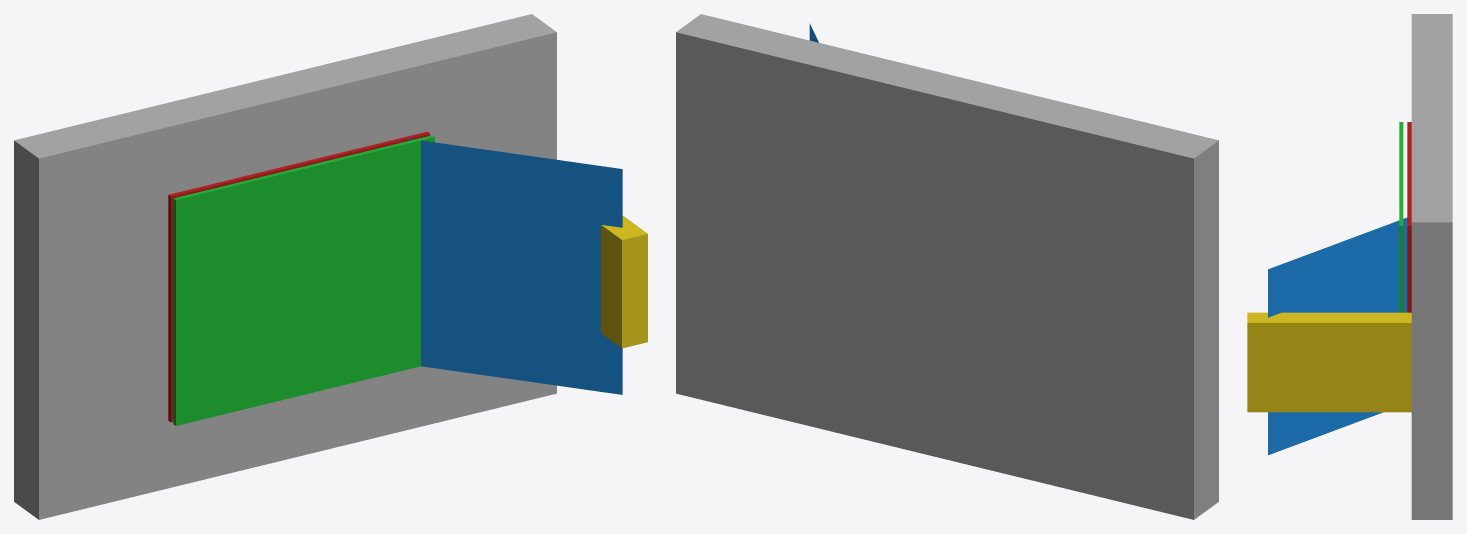
Rendered from flip_sequence.obj.
3 renders of one model, left to right at view 1: azimuth 30°, elevation 25°; view 2: azimuth 150°, elevation 25°; view 3: azimuth 270°, elevation 25°, orthographic. The views are drawn at different scales.
Parts seen in each view (by area): view 1: platform, plate_step3, plate_step2, stop_block, plate_step1; view 2: platform; view 3: platform, stop_block, plate_step2, plate_step1, plate_step3.
Boxes of the visible parts, box(x1,y1,x2,y2) form: platform: box(14, 14, 556, 519); plate_step3: box(173, 135, 434, 425); plate_step2: box(408, 138, 622, 394); stop_block: box(601, 215, 647, 348); plate_step1: box(168, 131, 429, 422); platform: box(676, 14, 1218, 519); platform: box(1411, 14, 1452, 519); stop_block: box(1247, 312, 1411, 412); plate_step2: box(1268, 217, 1407, 455); plate_step1: box(1407, 122, 1411, 312); plate_step3: box(1399, 122, 1403, 312).
Bounding box in the file's own units: 1.2 × 0.8 × 0.5.
